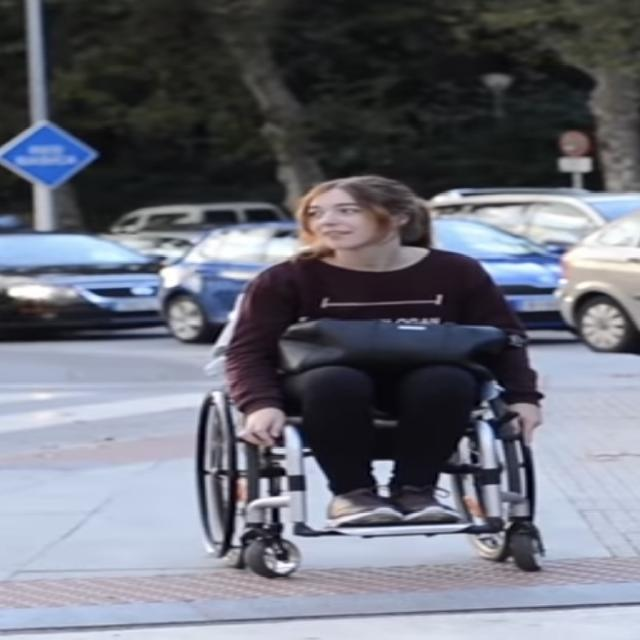wheelchairs: (191, 292, 548, 581)
